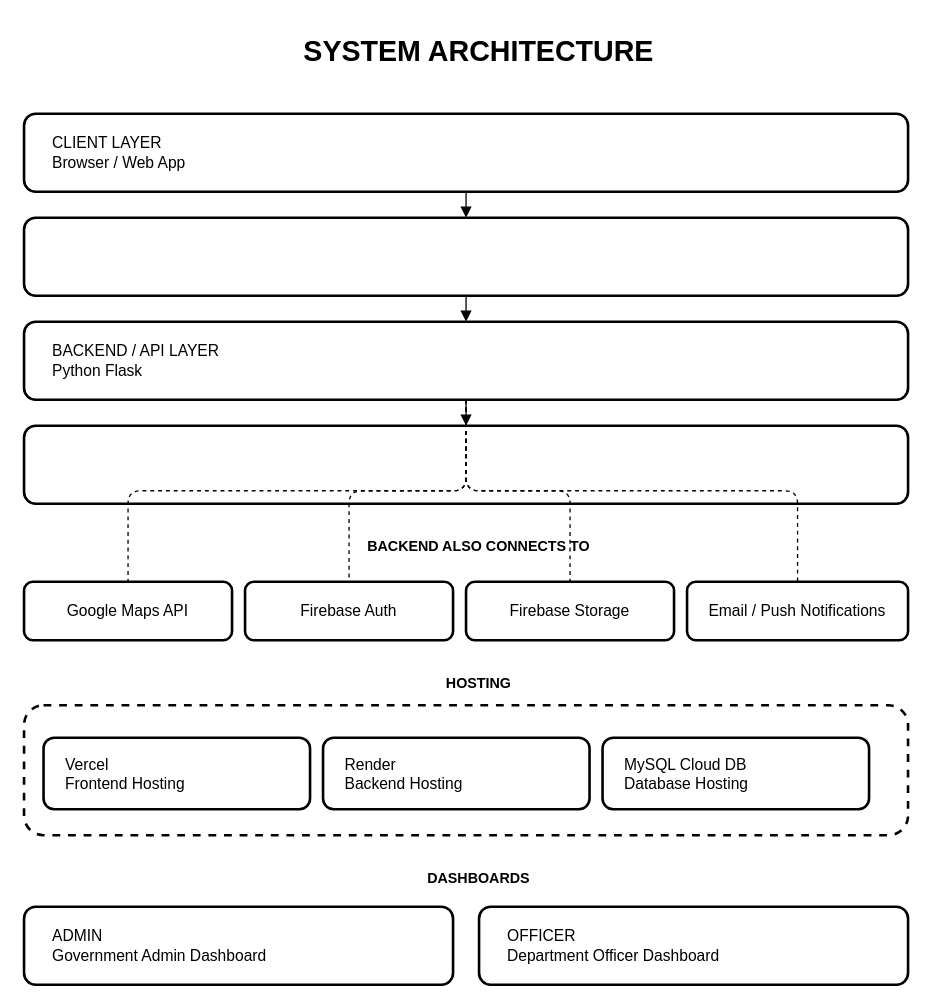
This 931x1007 diagram has some shape labels left out. Each missing label, with the box of its shape:
DATABASE LAYER MySQL: (22, 424, 909, 504)
FRONTEND LAYER HTML - CSS - JavaScript: (22, 216, 909, 296)
HOSTING BOUNDARY: (22, 703, 909, 836)
